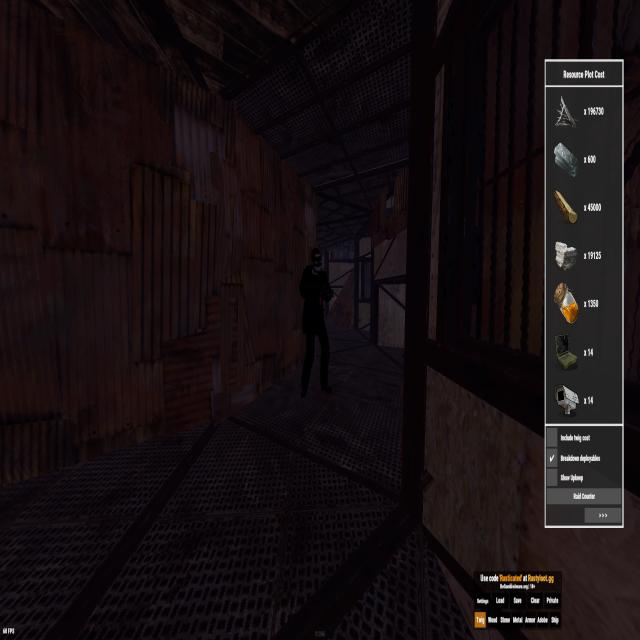Player: (297, 244, 335, 403)
